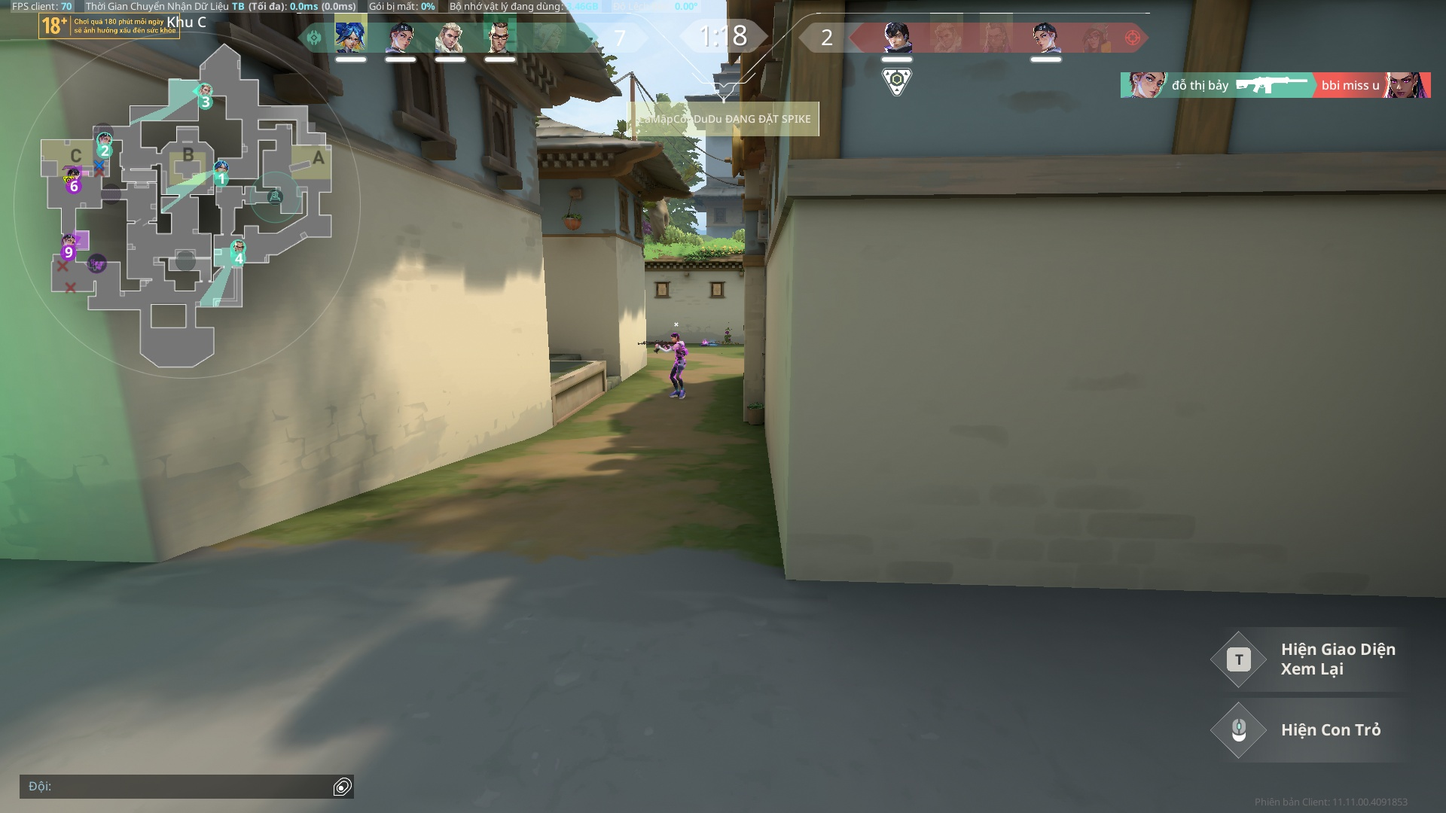body: (673, 340, 686, 361)
head: (669, 331, 680, 343)
